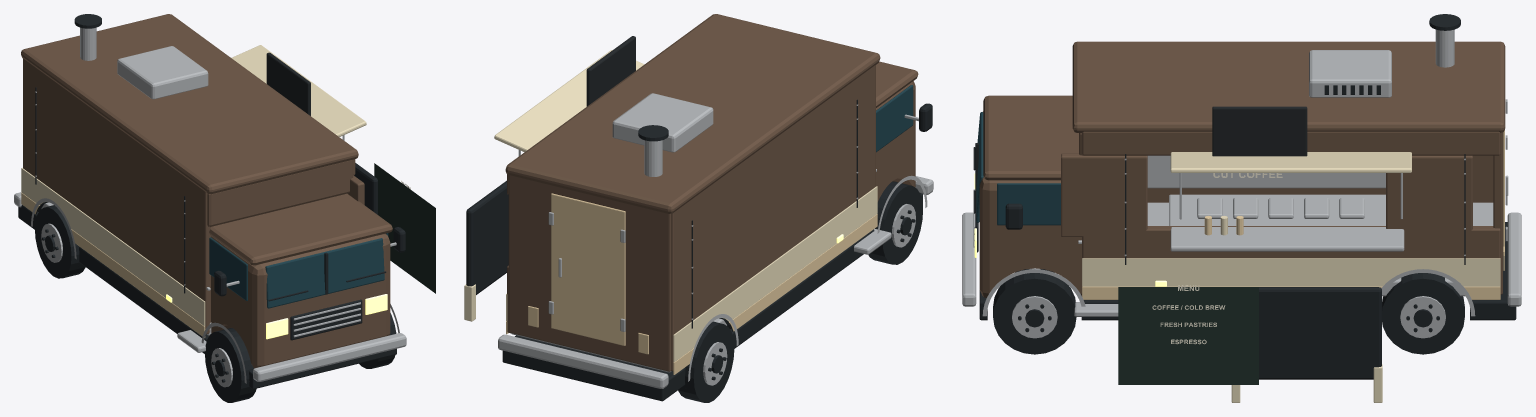
The model's file is coffee-truck.glb.
3 views of the same model, side by side, from view 1: azimuth 30°, elevation 25°; view 2: azimuth 150°, elevation 25°; view 3: azimuth 270°, elevation 25° (orthographic). The views are drawn at different scales.
Parts seen in each view (by area): view 1: CUT COFFEE Sauce Pitt cobalt enamel, Closed left wall, Rubber and charcoal, Brushed stainless, Blue cab glass, Yellow belt, Menu black, CUT COFFEE Warm yellow stripe, Burgundy skirt, LCD bezel, Warm service lights; view 2: CUT COFFEE Sauce Pitt cobalt enamel, Closed left wall, Rubber and charcoal, Brushed stainless, CUT COFFEE Burgundy enamel, Yellow belt, CUT COFFEE Warm yellow stripe, Burgundy skirt, LCD bezel, Blue cab glass; view 3: CUT COFFEE Sauce Pitt cobalt enamel, Brushed stainless, Rubber and charcoal, Menu black, Yellow belt.001, Service sill, CUT COFFEE Warm yellow stripe, LCD bezel, Blue cab glass, Closed left wall, Burgundy skirt.001, Vendor lettering / cream (+1 smaller).
Boxes of the visible parts, <box> form: CUT COFFEE Sauce Pitt cobalt enamel: <box>21,14,392,368</box>; Closed left wall: <box>23,58,210,334</box>; Rubber and charcoal: <box>18,14,405,402</box>; Brushed stainless: <box>14,27,406,387</box>; Blue cab glass: <box>209,233,388,308</box>; Yellow belt: <box>21,168,205,326</box>; Menu black: <box>374,163,435,293</box>; CUT COFFEE Warm yellow stripe: <box>231,45,366,136</box>; Burgundy skirt: <box>21,192,205,337</box>; LCD bezel: <box>266,52,310,115</box>; Warm service lights: <box>166,294,387,339</box>; CUT COFFEE Sauce Pitt cobalt enamel: <box>505,14,918,371</box>; Closed left wall: <box>671,65,875,371</box>; Rubber and charcoal: <box>466,99,932,402</box>; Brushed stainless: <box>498,93,933,388</box>; CUT COFFEE Burgundy enamel: <box>528,193,648,354</box>; Yellow belt: <box>673,186,877,362</box>; CUT COFFEE Warm yellow stripe: <box>464,50,644,321</box>; Burgundy skirt: <box>673,214,877,374</box>; LCD bezel: <box>586,36,635,106</box>; Blue cab glass: <box>876,85,913,152</box>; CUT COFFEE Sauce Pitt cobalt enamel: <box>979,41,1505,297</box>; Brushed stainless: <box>962,29,1521,338</box>; Rubber and charcoal: <box>973,14,1516,379</box>; Menu black: <box>1118,287,1258,384</box>; Yellow belt.001: <box>1082,258,1500,286</box>; Service sill: <box>1082,226,1500,258</box>; CUT COFFEE Warm yellow stripe: <box>1170,152,1411,402</box>; LCD bezel: <box>1212,106,1307,156</box>; Blue cab glass: <box>976,112,1060,225</box>; Closed left wall: <box>1147,155,1493,202</box>; Burgundy skirt.001: <box>1082,286,1500,299</box>; Vendor lettering / cream: <box>1152,173,1282,344</box>.
Bounding box in the file's own units: 4.43 × 3.81 × 7.09.
